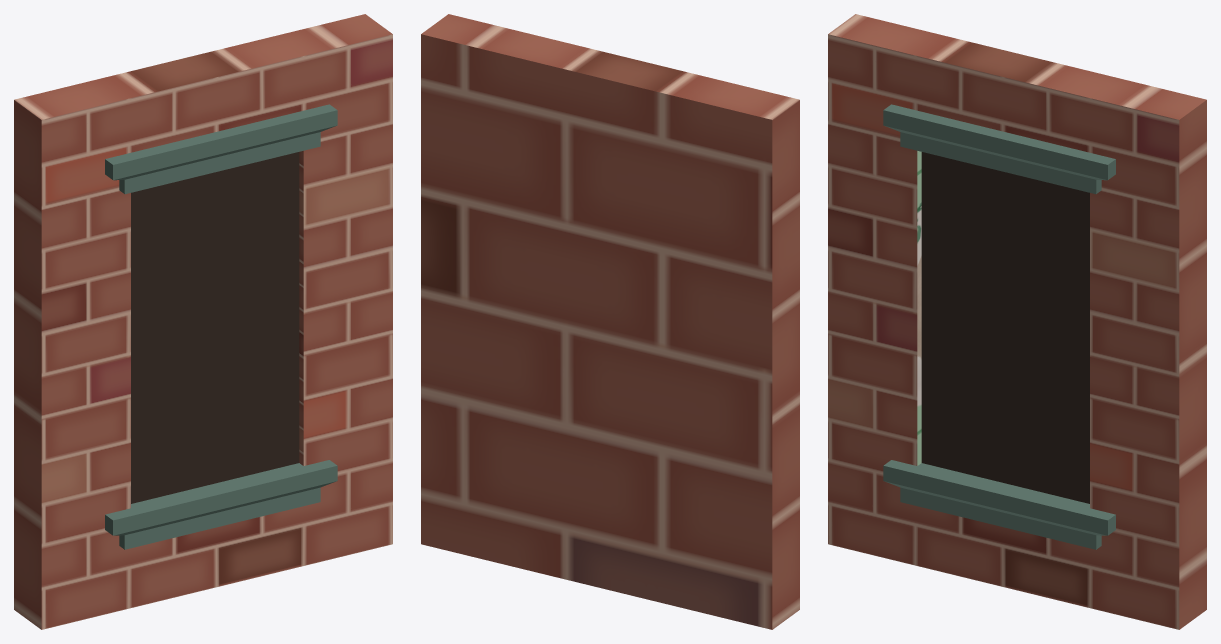
Rendered from buildingWindow.fbx.
The picture shows the model from 3 angles, left to right: view 1: azimuth 30°, elevation 25°; view 2: azimuth 150°, elevation 25°; view 3: azimuth 330°, elevation 25°; orthographic projection.
Parts seen in each view (by area): view 1: buildingWindow; view 2: buildingWindow; view 3: buildingWindow.
Boxes of the visible parts, <box> form: buildingWindow: <box>14,14,392,629</box>; buildingWindow: <box>421,14,799,629</box>; buildingWindow: <box>828,14,1206,629</box>.
Size of the model in its own units: 1.64 by 2.27 by 0.2878.
